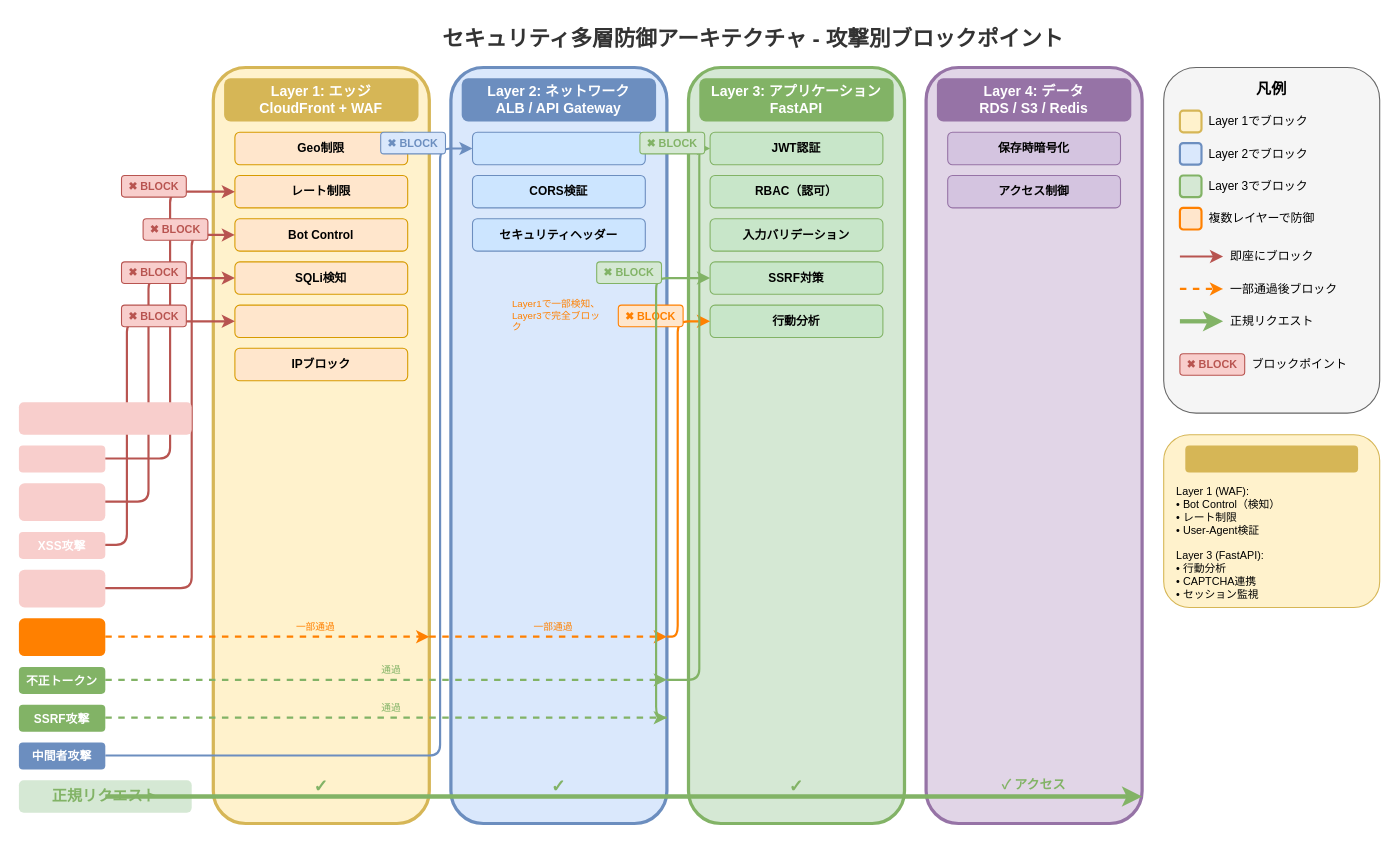
Some shapes in this 1399 by 843 pixel diagram are drawn without their labels. Each missing label, with the centre of its shape:
Bot攻撃の防御: (1271,458)
Bot（スクレイピング）: (61,588)
Bot（認証攻撃）: (61,637)
DDoS攻撃: (61,458)
SQLインジェクション: (61,502)
TLS 1.3終端: (558,148)
XSS検知: (321,321)
攻撃とブロックポイント: (104,418)
